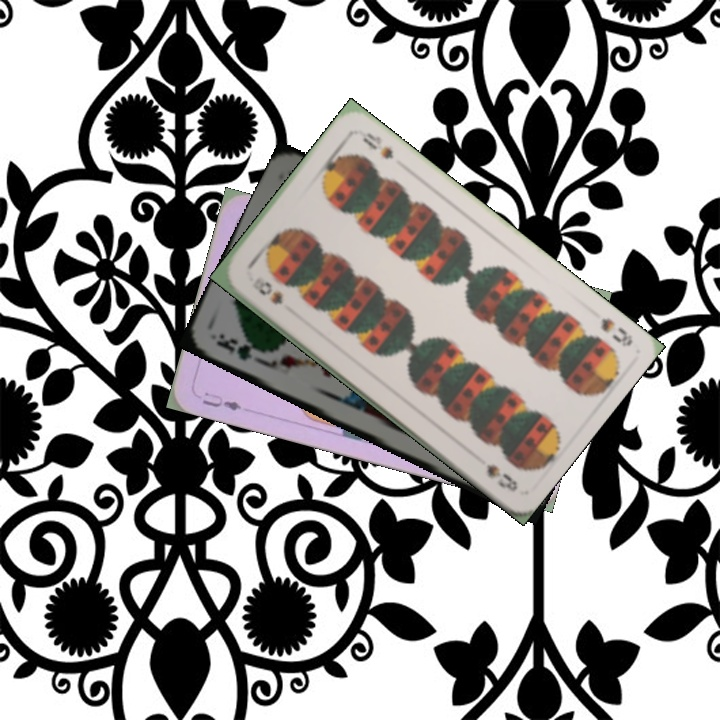EU: (198, 388, 244, 413)
GK: (211, 329, 267, 363)
S8: (597, 313, 635, 350), (248, 273, 286, 307)
